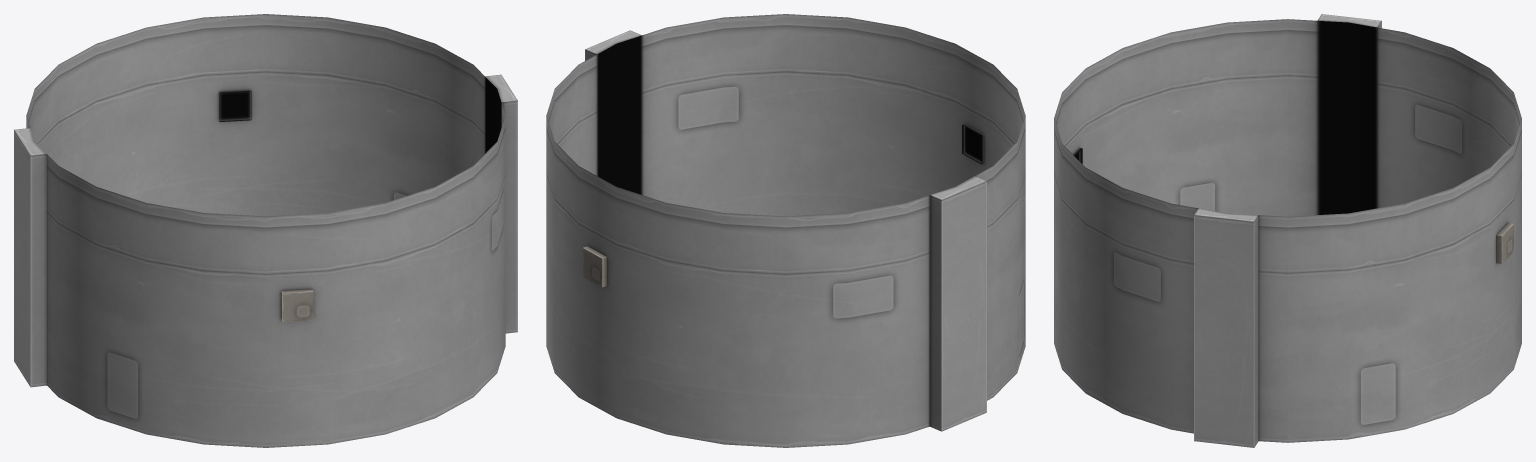
The model's file is fuel tank 1m.obj.
3 views of the same model, side by side, from view 1: azimuth 30°, elevation 25°; view 2: azimuth 150°, elevation 25°; view 3: azimuth 270°, elevation 25° (orthographic). The views are drawn at different scales.
Visible parts, largest first — view 1: 1; view 2: 1; view 3: 1.
Boxes of the visible parts, x1,y1,x2,y2 form: 1: (14,14,517,447); 1: (546,14,1025,447); 1: (1054,14,1521,447).
Size of the model in its own units: 1.97 by 1 by 1.88.
Materials: 1 (1 with a texture image).
